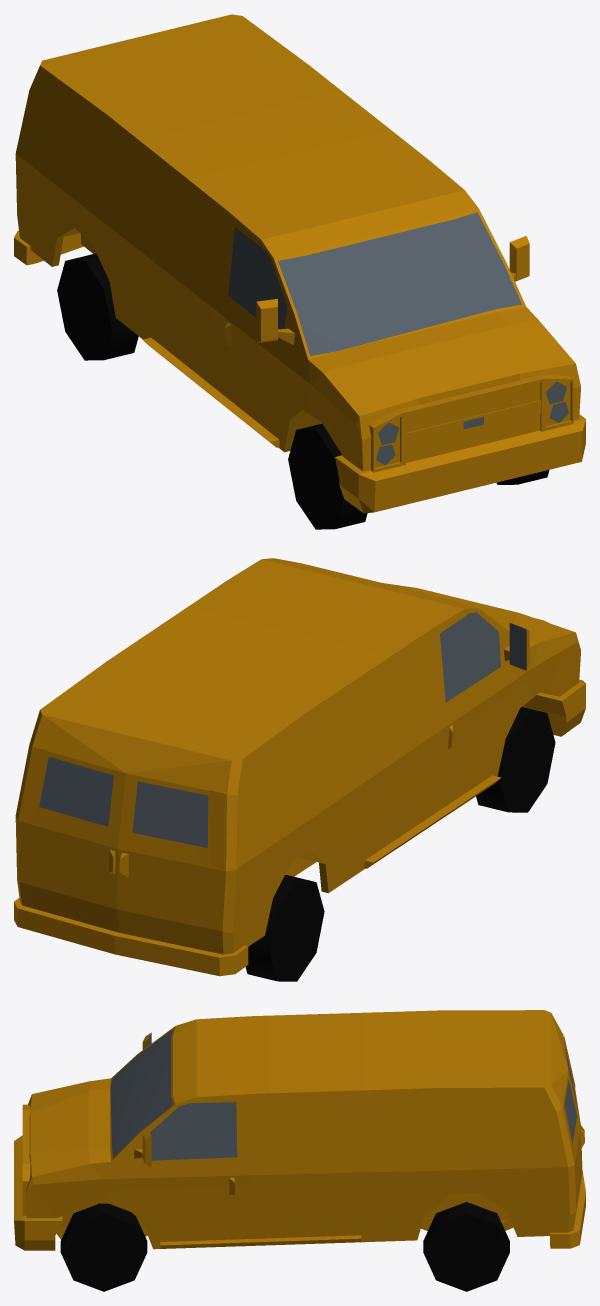
Rendered from Car.fbx.
The picture shows the model from 3 angles, top to bottom: view 1: azimuth 30°, elevation 25°; view 2: azimuth 150°, elevation 25°; view 3: azimuth 270°, elevation 25°; orthographic projection. The views are drawn at different scales.
Visible parts, largest first — view 1: Car_Van_Green_LOD1; view 2: Car_Van_Green_LOD1; view 3: Car_Van_Green_LOD1.
Part boxes in pixels (x1,y1,x2,y2): Car_Van_Green_LOD1: (14, 14, 585, 529); Car_Van_Green_LOD1: (14, 558, 585, 981); Car_Van_Green_LOD1: (14, 1010, 585, 1291).
Bounding box in the file's own units: 266 × 243 × 622.
